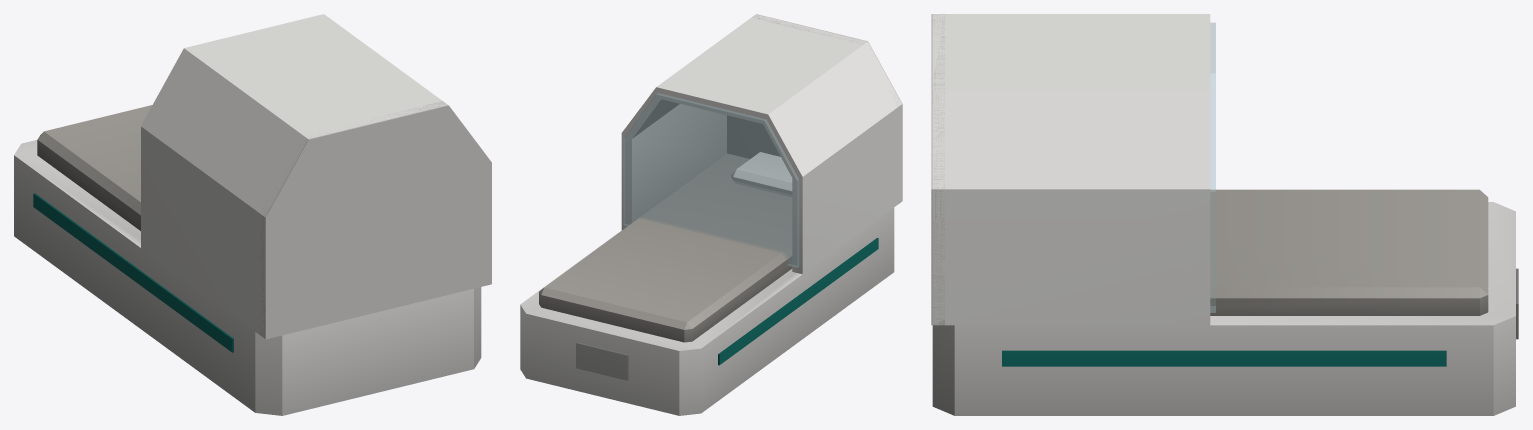
File: sleep_pod_01.glb
The picture shows the model from 3 angles, left to right: view 1: azimuth 30°, elevation 25°; view 2: azimuth 150°, elevation 25°; view 3: azimuth 270°, elevation 25°; orthographic projection. The views are drawn at different scales.
Visible parts, largest first — view 1: sleep_pod_01_mesh; view 2: sleep_pod_01_mesh, sleep_pod_01_glass; view 3: sleep_pod_01_mesh, sleep_pod_01_glass.
Boxes of the visible parts, x1,y1,x2,y2 form: sleep_pod_01_mesh: (14, 14, 491, 415); sleep_pod_01_mesh: (520, 14, 902, 415); sleep_pod_01_glass: (623, 93, 798, 267); sleep_pod_01_mesh: (931, 14, 1518, 415); sleep_pod_01_glass: (1210, 23, 1215, 312).
Size of the model in its own units: 1.07 by 1.2 by 2.12.
Materials: 3 (3 with a texture image).
